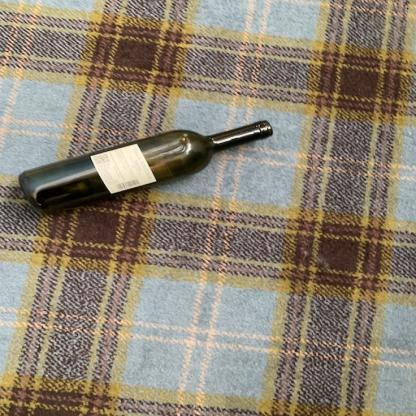trash: (19, 115, 272, 215)
